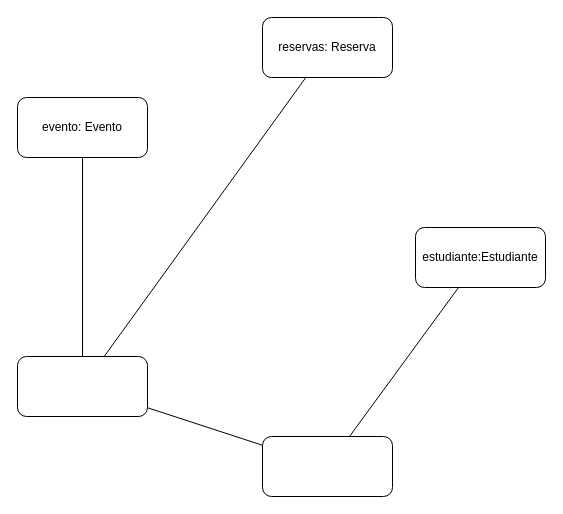
The diagram is 563 pixels wide and 514 high, and some of its shapes have lost their labels. The box of each missing label's shape, as (x1, y1, x2, y2) in pixels:
calculo: CalcularDisponibilidad: (16, 356, 148, 416)
pantalla: PantallaEventos: (262, 436, 392, 496)
